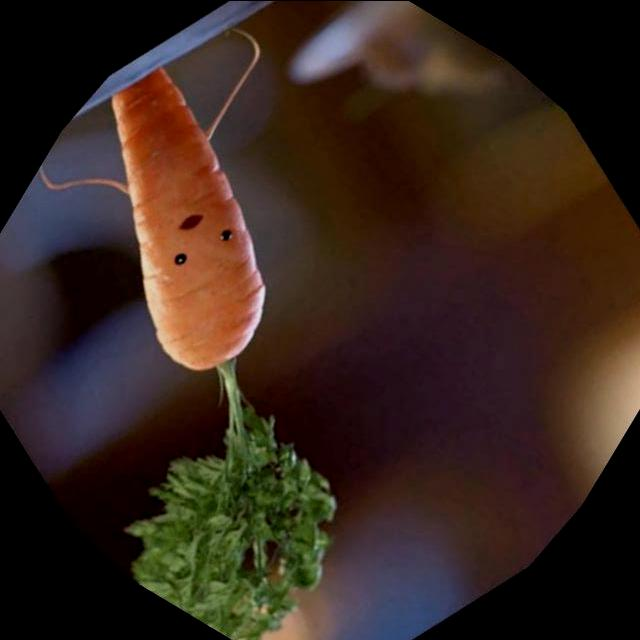carrot: (0, 23, 439, 476)
